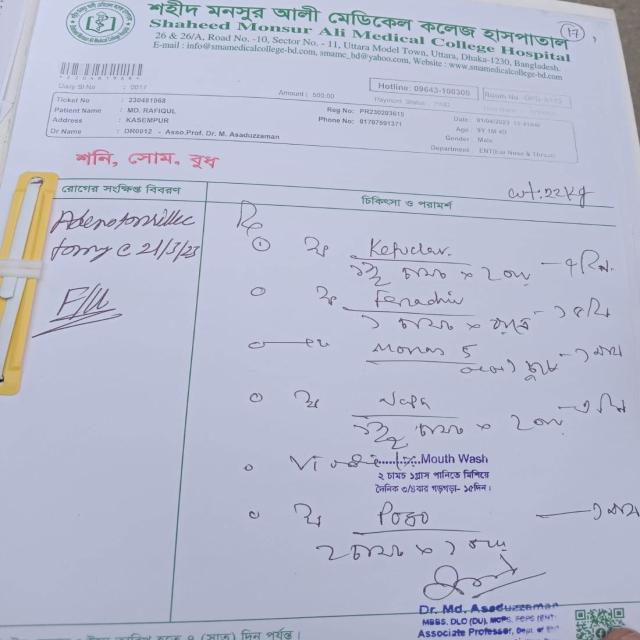Fenadin: (370, 287, 473, 315)
Kefuclav: (361, 233, 457, 262)
Monas: (365, 336, 453, 366)
Napa: (369, 387, 440, 416)
Pogo: (371, 502, 442, 530)
Viodin: (285, 447, 392, 476)
